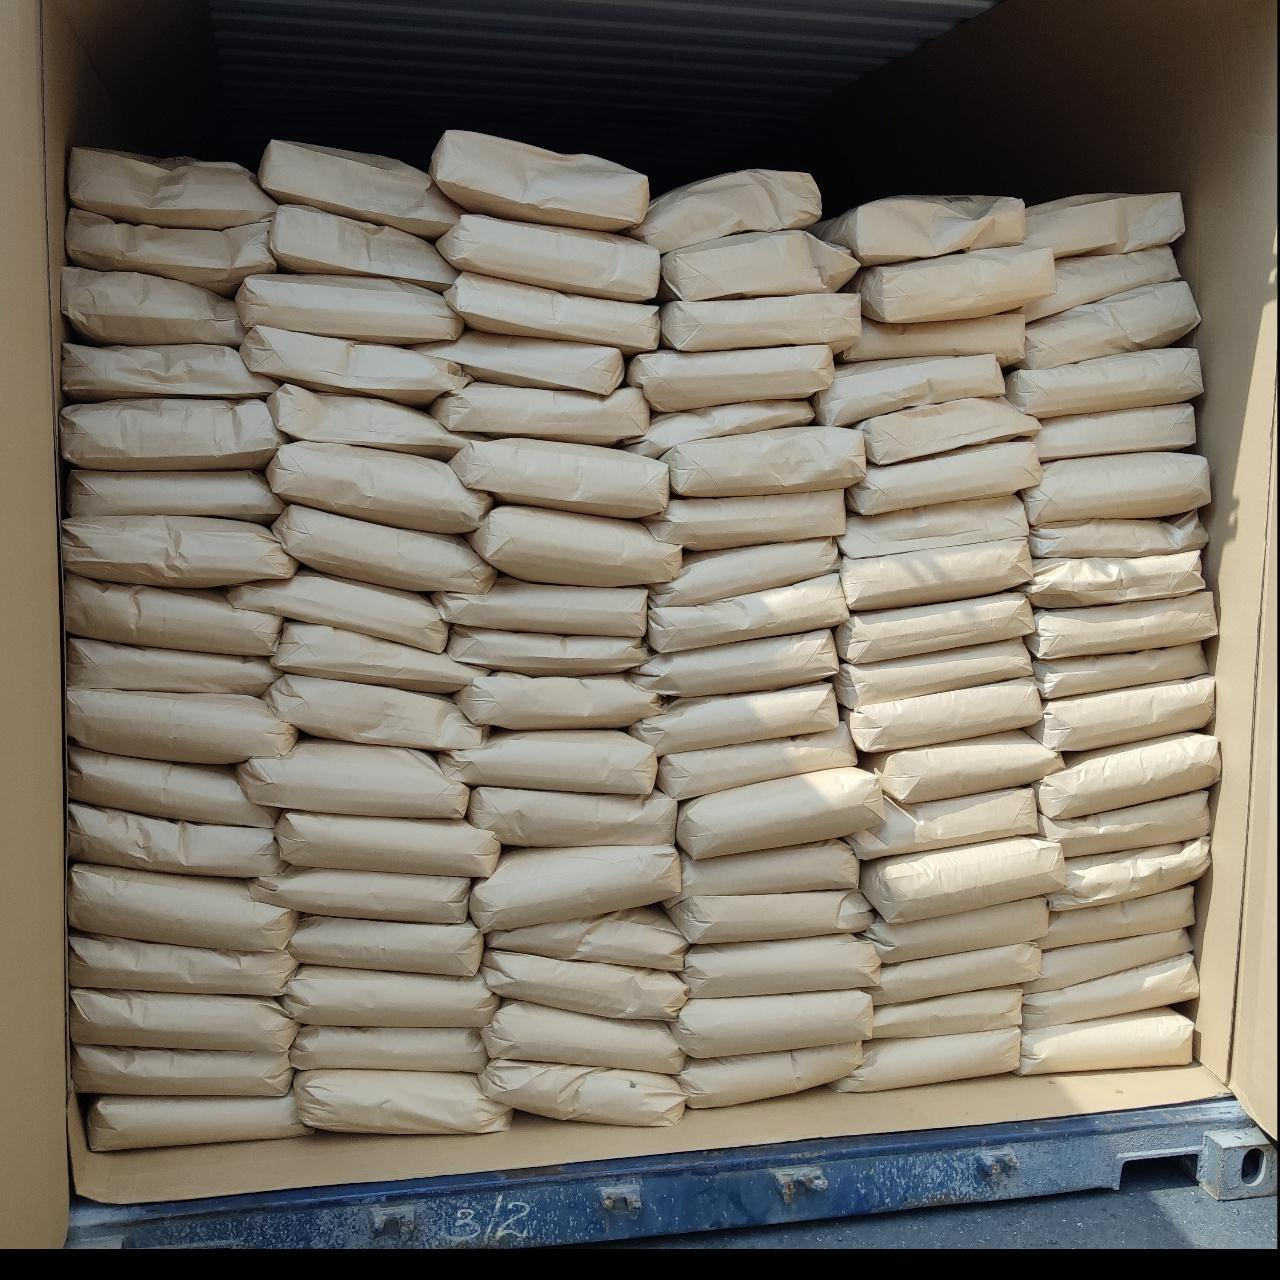sack: (429, 131, 649, 231), (266, 441, 490, 533), (272, 505, 496, 593), (69, 865, 297, 951), (258, 140, 458, 238), (436, 215, 660, 301), (676, 767, 883, 858), (228, 569, 447, 652), (237, 741, 469, 819), (471, 845, 681, 931), (66, 208, 275, 294), (240, 326, 468, 404), (67, 686, 297, 763), (65, 574, 281, 655), (861, 836, 1064, 922), (445, 272, 660, 353), (449, 438, 668, 517), (466, 506, 681, 586), (69, 148, 276, 229), (61, 516, 296, 587), (262, 674, 483, 749), (68, 745, 273, 825), (269, 205, 456, 291), (648, 573, 848, 653), (1021, 280, 1199, 369), (237, 274, 462, 344), (61, 398, 282, 469), (69, 803, 281, 877), (1038, 734, 1219, 820), (633, 170, 820, 253), (857, 247, 1056, 323), (629, 683, 839, 755), (658, 723, 856, 799), (481, 1001, 686, 1074), (846, 676, 1042, 752), (812, 196, 1024, 266), (275, 811, 499, 877), (70, 988, 297, 1053), (270, 622, 477, 693), (268, 384, 466, 457), (847, 440, 1041, 514), (62, 267, 243, 346), (484, 950, 687, 1020), (1028, 675, 1214, 751), (628, 344, 834, 412), (69, 935, 298, 996), (1022, 452, 1210, 526), (294, 1070, 511, 1134), (842, 537, 1032, 610), (661, 230, 859, 300), (835, 592, 1033, 662), (635, 629, 838, 697), (662, 428, 865, 496), (430, 382, 649, 445), (280, 965, 498, 1028), (870, 731, 1063, 802), (671, 990, 872, 1058), (812, 355, 1004, 426), (442, 731, 657, 794), (1006, 349, 1202, 418), (834, 639, 1032, 707), (1022, 953, 1198, 1029), (88, 1091, 309, 1151), (480, 1060, 684, 1125), (853, 787, 1037, 859), (417, 331, 623, 395), (432, 576, 647, 637), (1025, 591, 1217, 659), (649, 539, 840, 607), (486, 907, 687, 970), (67, 637, 280, 696), (681, 935, 880, 998), (675, 1041, 862, 1108), (864, 896, 1048, 964), (251, 866, 470, 923), (469, 787, 677, 847), (829, 1027, 1020, 1092), (645, 490, 845, 551), (856, 398, 1040, 464), (62, 344, 276, 400), (1023, 245, 1180, 321), (839, 495, 1027, 558), (661, 294, 860, 353), (1040, 790, 1210, 859), (1019, 1008, 1193, 1075), (289, 916, 483, 976), (455, 672, 662, 728), (1051, 837, 1208, 910), (68, 469, 283, 522), (72, 1045, 292, 1096), (667, 889, 873, 943), (625, 400, 813, 458), (1023, 192, 1184, 259), (1025, 930, 1192, 993), (680, 840, 858, 899), (1025, 550, 1204, 608), (871, 944, 1040, 1005), (448, 625, 649, 676), (1038, 885, 1193, 949), (1034, 643, 1208, 699), (290, 1025, 486, 1073), (1036, 402, 1194, 460), (845, 313, 1024, 364), (1029, 512, 1207, 558), (874, 986, 1021, 1038)
